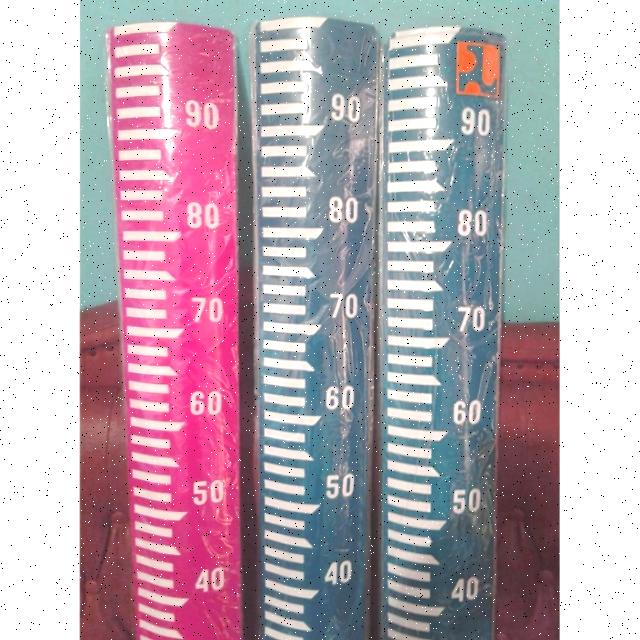40: (192, 565, 226, 595), (449, 576, 481, 606), (323, 560, 353, 587)
50: (451, 486, 484, 517), (324, 472, 358, 501), (193, 478, 226, 506)
60: (189, 388, 224, 417), (452, 398, 482, 428), (325, 386, 356, 410)
70: (185, 291, 227, 327), (327, 291, 362, 323), (457, 305, 488, 336)
80: (184, 199, 224, 234), (456, 205, 493, 238), (328, 193, 360, 226)
90: (184, 97, 223, 134), (330, 89, 364, 129), (459, 105, 494, 138)
staff: (102, 21, 240, 640), (253, 21, 379, 638), (386, 26, 504, 640)
